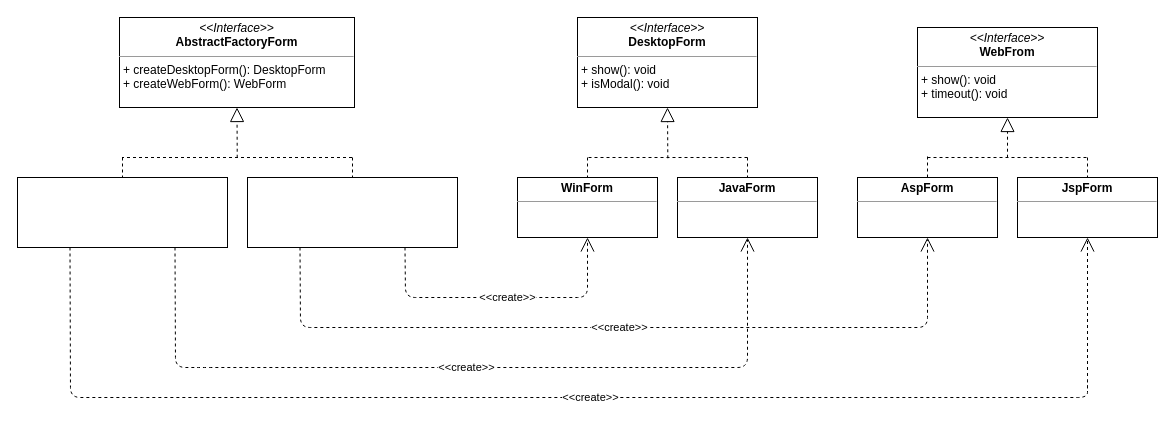
Some shapes in this 1175 by 429 pixel diagram are drawn without their labels. The centre of each missing label's shape, as x and y in pixels:
"JavaFactory + createDesktopForm(): DesktopForm + createWebForm(): WebForm" belongs at pixel 122 212.
"NetFactory + createDesktopForm(): DesktopForm + createWebForm(): WebForm" belongs at pixel 352 212.
